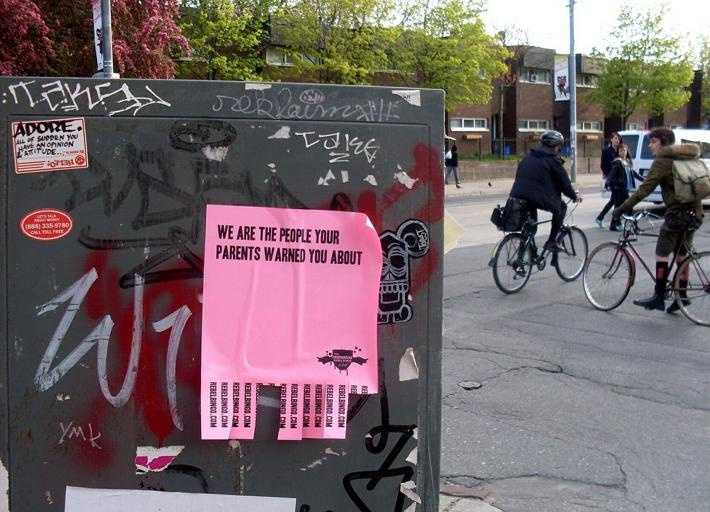non-vehicle: (581, 207, 710, 326), (487, 189, 587, 294)
